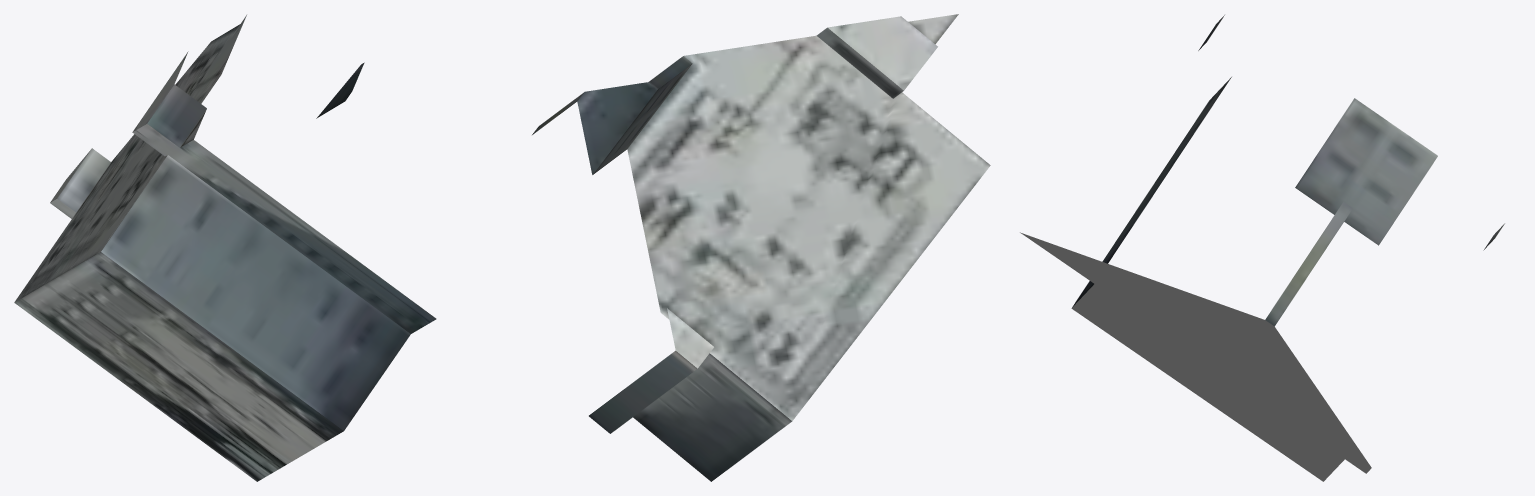
The model's file is 39546_bldg_Building.glb.
3 renders of one model, left to right at view 1: azimuth 30°, elevation 25°; view 2: azimuth 150°, elevation 25°; view 3: azimuth 270°, elevation 25°, orthographic. The views are drawn at different scales.
Size of the model in its own units: 51.84 by 53.7 by 59.62.
Materials: 2 (1 with a texture image).
